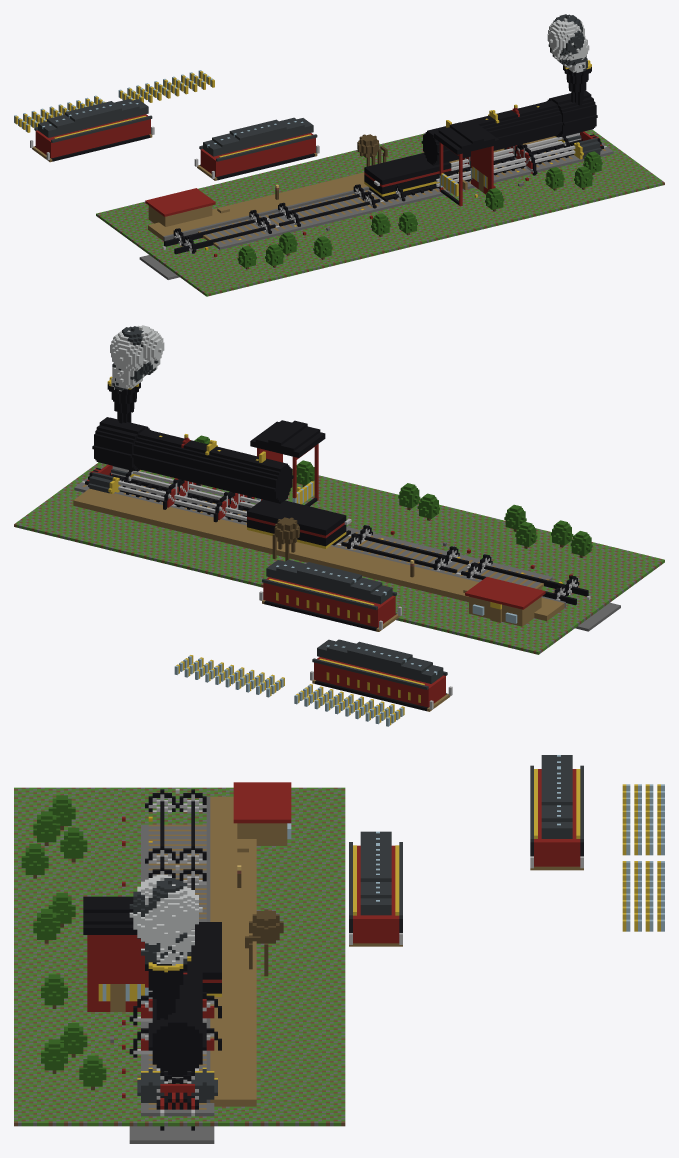
The picture shows the model from 3 angles, top to bottom: view 1: azimuth 30°, elevation 25°; view 2: azimuth 150°, elevation 25°; view 3: azimuth 270°, elevation 25°; orthographic projection. The views are drawn at different scales.
Size of the model in its own units: 206 by 66 by 169.
